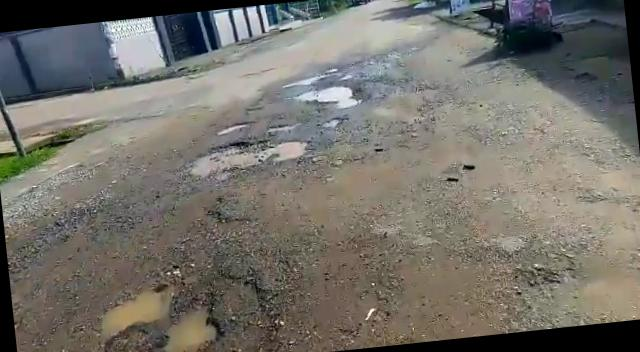pothole: (95, 276, 226, 352), (180, 138, 312, 183), (288, 83, 359, 114), (212, 120, 256, 136), (268, 122, 298, 134)
